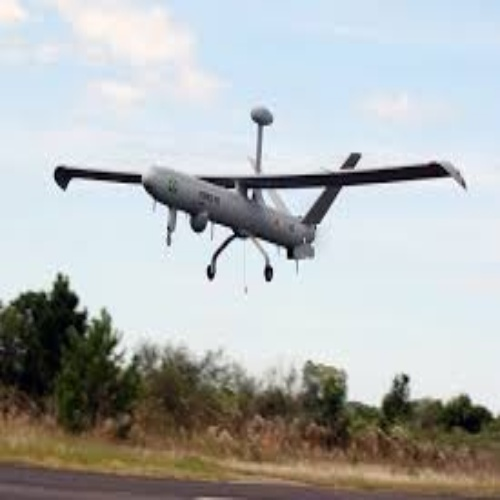uav715: (51, 103, 469, 285)
